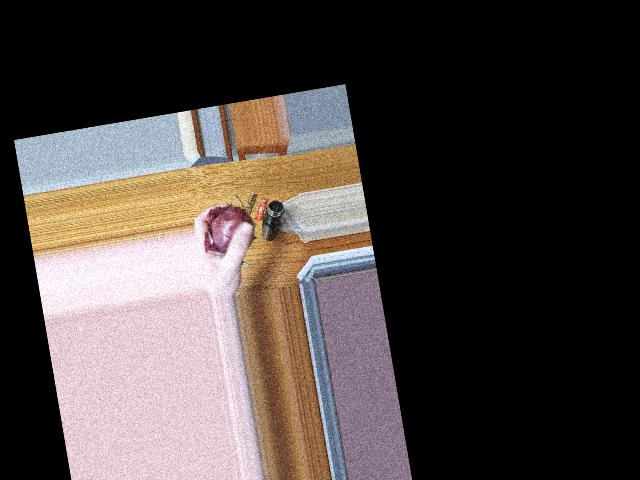onion: (204, 206, 251, 259)
